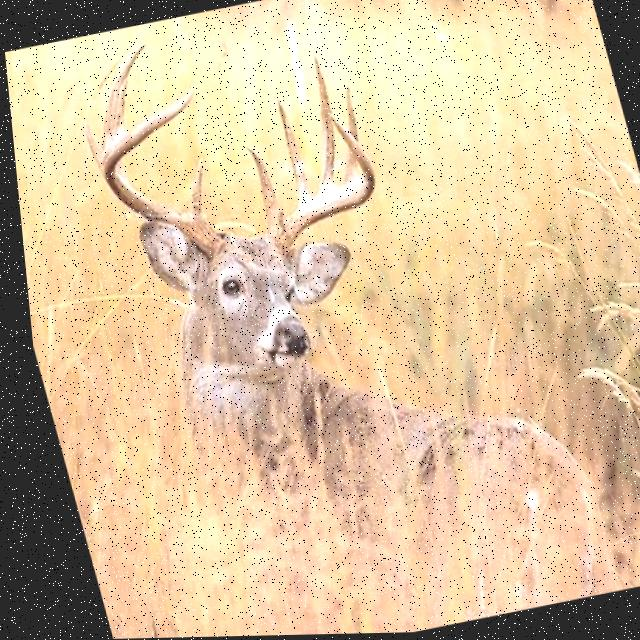E1: (80, 120, 98, 171)
L-F: (99, 82, 221, 264)
L-G1: (183, 156, 201, 218)
R-F: (261, 117, 372, 260)
R-G1: (241, 143, 279, 232)
R-G2: (274, 98, 306, 206)
R-G3: (312, 57, 332, 196)
